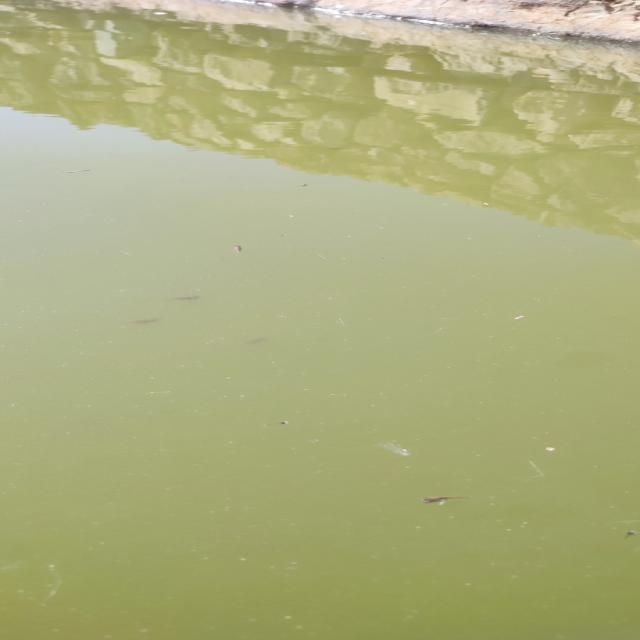Sivrisinek Baligi: (420, 492, 464, 508), (115, 316, 166, 328), (164, 291, 206, 303), (232, 243, 250, 255)
